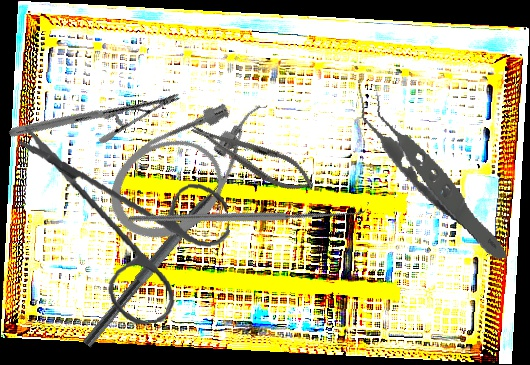Cannula: (90, 79, 296, 260)
Chopper: (81, 163, 248, 358)
Hook Surgical: (127, 104, 370, 319)
Iris Scissors: (17, 107, 239, 335)
Needle Holder: (7, 30, 182, 200), (185, 112, 320, 201)
Tissue Forceps: (354, 64, 510, 280)
